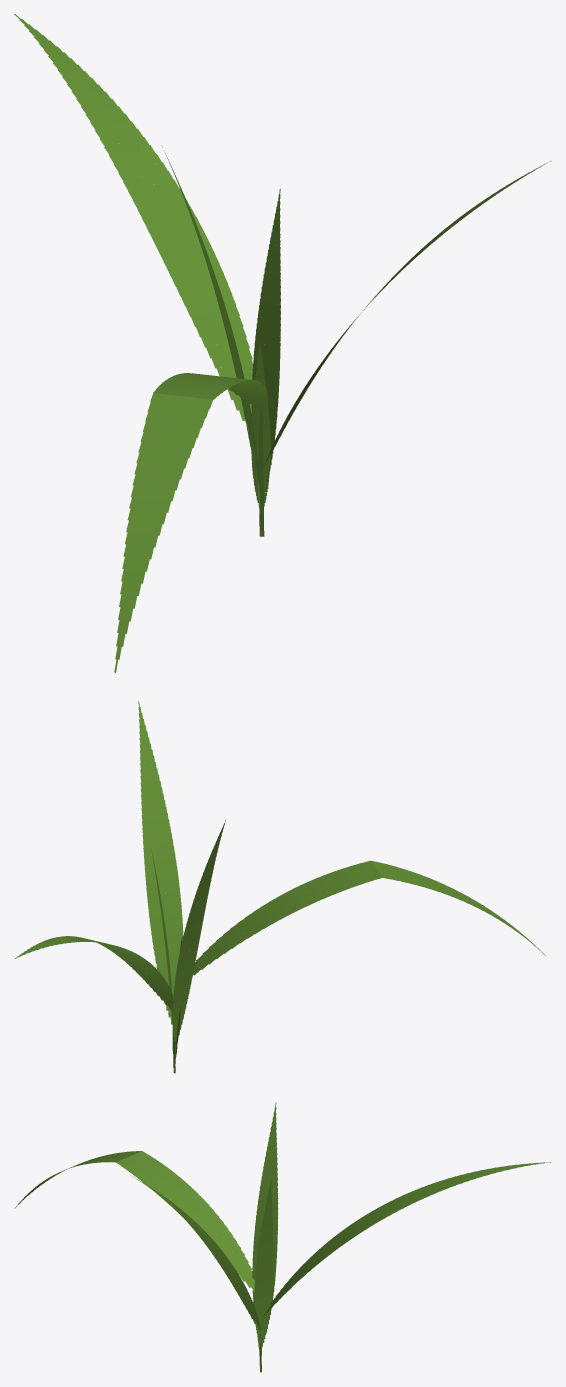
File: maize_002_day_055.dae
The picture shows the model from 3 angles, top to bottom: view 1: azimuth 30°, elevation 25°; view 2: azimuth 150°, elevation 25°; view 3: azimuth 270°, elevation 25°; orthographic projection. The views are drawn at different scales.
Visible parts, largest first — view 1: node; view 2: node; view 3: node.
Boxes of the visible parts, left/top/right/bottom form: node: left=14, top=14, right=550, bottom=672; node: left=14, top=701, right=545, bottom=1073; node: left=14, top=1102, right=551, bottom=1372.
Size of the model in its own units: 0.3643 by 0.2792 by 0.5381.
Materials: 1 (1 with a texture image).
